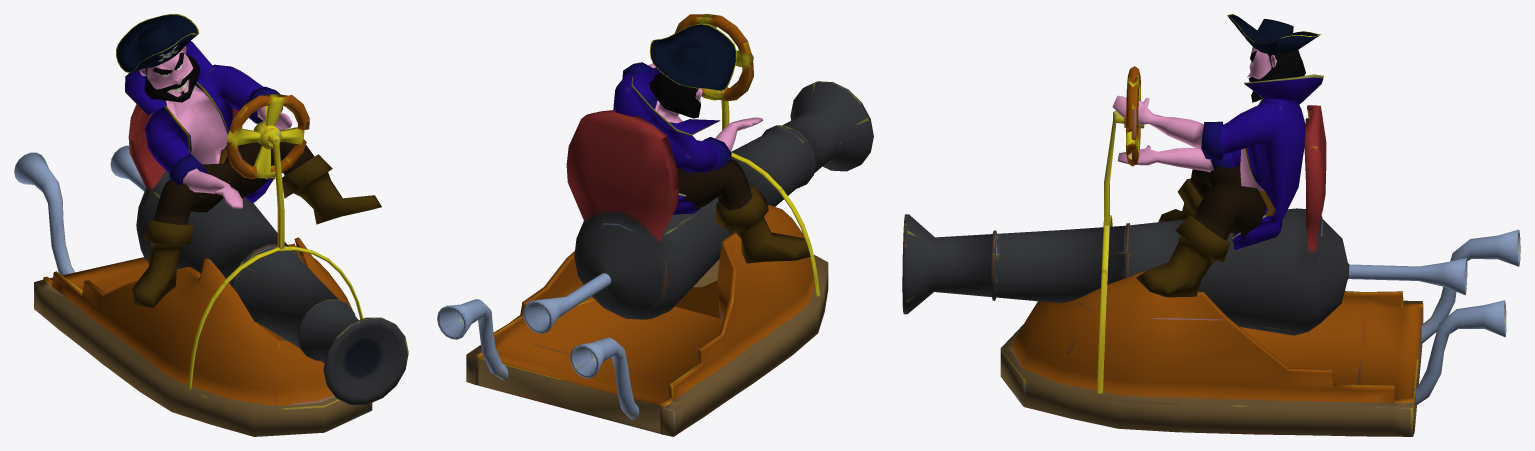
Rendered from pirataGiroDer_000175.obj.
3 renders of one model, left to right at view 1: azimuth 30°, elevation 25°; view 2: azimuth 150°, elevation 25°; view 3: azimuth 270°, elevation 25°, orthographic. The views are drawn at different scales.
Parts seen in each view (by area): view 1: carro_pirata, Pirata_PirataH_Pirata_PirataH.001; view 2: carro_pirata, Pirata_PirataH_Pirata_PirataH.001; view 3: carro_pirata, Pirata_PirataH_Pirata_PirataH.001.
Boxes of the visible parts, left/top/right/bottom form: carro_pirata: left=14, top=94, right=408, bottom=436; Pirata_PirataH_Pirata_PirataH.001: left=116, top=14, right=381, bottom=307; carro_pirata: left=437, top=14, right=873, bottom=436; Pirata_PirataH_Pirata_PirataH.001: left=613, top=23, right=810, bottom=263; carro_pirata: left=902, top=66, right=1520, bottom=436; Pirata_PirataH_Pirata_PirataH.001: left=1112, top=14, right=1323, bottom=297.
Bounding box in the file's own units: 5.65 × 7.42 × 12.1.
Materials: 2 (2 with a texture image).
